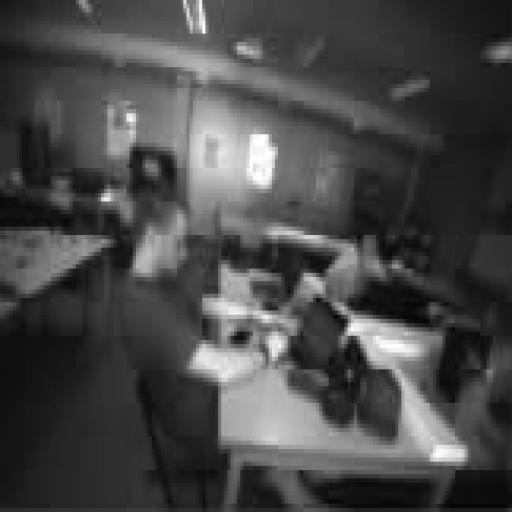human: (121, 198, 268, 453), (306, 219, 421, 310), (452, 330, 512, 472)
